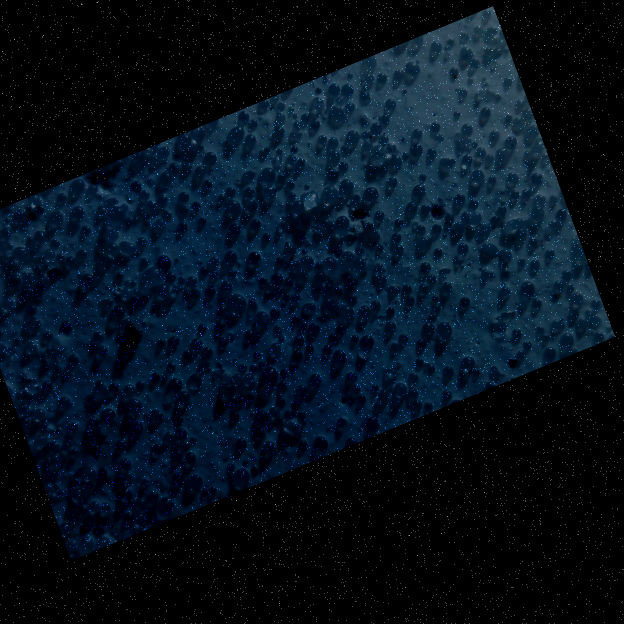GrassBeadSeg: (102, 382, 397, 545), (73, 177, 396, 292), (142, 381, 406, 485), (412, 182, 565, 346), (70, 381, 268, 499), (240, 332, 374, 483), (126, 242, 255, 398), (26, 272, 357, 330), (319, 320, 452, 450), (260, 76, 415, 180), (18, 261, 116, 422), (200, 125, 298, 273), (84, 468, 249, 549), (108, 205, 309, 269), (201, 142, 298, 274), (351, 153, 472, 258), (144, 408, 267, 504), (58, 395, 142, 531), (177, 185, 292, 282), (156, 139, 240, 266), (193, 365, 278, 488), (248, 370, 358, 465), (412, 223, 500, 332), (388, 283, 495, 370), (405, 60, 480, 182), (340, 166, 485, 229), (97, 286, 131, 543), (32, 265, 162, 330), (373, 45, 471, 131), (176, 220, 372, 263), (329, 105, 418, 198), (195, 126, 294, 208), (83, 383, 135, 524), (441, 76, 487, 235), (395, 23, 482, 107), (13, 284, 131, 344), (234, 308, 291, 427), (29, 256, 150, 311), (247, 362, 429, 398), (309, 320, 389, 397), (466, 279, 534, 369), (359, 207, 416, 314), (20, 351, 104, 423), (292, 111, 357, 198), (163, 198, 241, 268), (174, 216, 261, 278), (382, 120, 533, 155), (110, 147, 204, 202), (91, 422, 144, 519), (430, 122, 472, 244), (51, 200, 164, 245), (385, 320, 451, 397), (393, 67, 472, 131), (92, 449, 174, 510), (289, 112, 389, 161), (214, 415, 276, 493), (455, 24, 497, 139), (43, 231, 87, 337), (200, 314, 280, 372), (295, 83, 331, 210), (123, 384, 183, 460), (122, 447, 217, 493), (258, 236, 353, 282), (231, 214, 269, 324), (296, 121, 335, 227), (304, 300, 354, 382), (296, 77, 365, 136), (158, 144, 236, 196), (151, 125, 255, 163), (113, 305, 203, 348), (52, 204, 144, 246), (346, 42, 454, 77), (283, 132, 401, 163), (341, 209, 384, 294), (61, 479, 130, 530), (366, 54, 499, 80), (220, 241, 292, 289), (384, 241, 468, 282), (153, 162, 295, 186), (432, 296, 478, 370), (386, 47, 441, 108), (471, 178, 542, 221), (245, 104, 323, 143), (262, 150, 295, 239), (130, 145, 196, 189), (401, 109, 460, 157), (338, 363, 380, 430), (240, 109, 323, 141), (430, 120, 540, 144), (38, 382, 111, 418), (460, 31, 509, 84), (0, 284, 44, 343), (482, 178, 517, 250), (72, 179, 142, 215), (150, 283, 246, 309), (442, 353, 555, 375), (229, 123, 271, 182), (159, 404, 182, 509), (360, 72, 455, 97), (151, 132, 181, 211), (402, 44, 449, 93), (29, 335, 171, 351), (140, 190, 180, 246), (137, 426, 179, 479), (544, 298, 582, 356), (93, 265, 169, 294), (255, 348, 280, 436), (263, 306, 280, 435), (422, 135, 471, 179), (277, 152, 296, 264), (260, 304, 355, 326), (313, 96, 339, 176), (178, 214, 207, 283), (432, 128, 494, 160), (298, 253, 331, 312), (484, 14, 512, 83), (3, 207, 128, 222), (412, 113, 490, 137), (133, 375, 182, 413), (382, 283, 470, 304), (414, 109, 456, 153), (480, 170, 517, 219), (270, 379, 320, 415), (100, 455, 132, 511), (271, 270, 312, 313), (119, 456, 159, 500), (32, 352, 78, 390), (141, 188, 183, 229), (345, 100, 385, 143), (76, 203, 107, 258), (181, 151, 208, 214), (263, 189, 296, 240), (89, 183, 130, 224), (343, 249, 369, 313), (394, 328, 418, 396), (426, 336, 475, 369), (479, 105, 538, 132), (532, 170, 566, 216), (12, 225, 55, 261), (147, 143, 170, 209), (302, 227, 337, 270), (25, 318, 72, 350), (84, 467, 132, 498), (402, 39, 441, 77), (421, 153, 437, 245), (313, 125, 348, 167), (237, 412, 280, 446), (274, 185, 378, 199), (117, 283, 161, 316), (376, 242, 426, 271), (525, 295, 564, 332), (333, 142, 413, 160), (9, 246, 45, 286), (297, 328, 319, 393), (165, 472, 203, 509), (363, 79, 383, 147), (337, 94, 367, 138), (446, 36, 474, 83), (444, 47, 486, 78), (240, 417, 266, 466), (274, 124, 337, 144), (57, 223, 90, 261), (487, 111, 512, 161), (185, 446, 274, 460), (329, 160, 401, 177), (252, 340, 281, 381), (38, 432, 97, 452), (478, 7, 491, 96), (313, 430, 370, 450), (454, 51, 467, 138), (476, 87, 509, 121), (150, 408, 187, 438), (84, 443, 100, 512), (248, 303, 265, 366), (22, 408, 98, 422), (272, 270, 325, 290), (124, 315, 159, 345), (49, 209, 114, 225), (147, 470, 184, 498), (259, 224, 274, 292), (248, 250, 279, 282), (463, 198, 501, 224), (28, 242, 75, 263), (132, 241, 179, 262), (432, 233, 447, 298), (318, 132, 345, 168), (60, 319, 104, 341), (86, 271, 123, 297), (490, 248, 510, 295), (15, 210, 46, 240), (213, 332, 234, 376), (107, 397, 143, 422), (328, 128, 358, 158), (420, 260, 448, 291), (43, 360, 75, 387), (151, 442, 194, 462), (275, 109, 294, 154), (211, 304, 228, 354), (76, 499, 93, 549), (156, 426, 186, 454), (92, 330, 106, 390), (164, 147, 188, 182), (338, 177, 374, 200), (516, 97, 530, 156), (2, 224, 12, 306), (104, 437, 126, 474), (509, 290, 583, 301), (243, 371, 254, 445), (33, 394, 70, 416), (200, 192, 226, 223), (27, 302, 49, 338), (176, 388, 225, 404), (224, 184, 240, 233), (196, 142, 270, 152), (43, 420, 78, 441), (287, 90, 322, 111), (22, 381, 39, 424), (320, 296, 350, 320), (187, 262, 219, 284), (277, 156, 306, 180), (260, 255, 284, 284), (87, 514, 133, 529), (28, 270, 85, 282), (0, 208, 26, 234), (264, 424, 291, 449), (247, 164, 303, 176), (142, 196, 165, 225), (314, 75, 353, 92), (348, 231, 381, 251), (382, 174, 397, 218), (349, 110, 382, 130), (424, 360, 479, 372), (464, 69, 472, 151), (362, 71, 386, 98), (21, 386, 49, 409), (342, 128, 370, 151), (193, 381, 235, 396), (441, 280, 466, 305), (524, 205, 544, 236), (205, 285, 227, 313), (395, 182, 417, 210), (328, 199, 350, 227), (123, 278, 137, 322), (33, 190, 94, 200), (34, 229, 55, 258), (328, 256, 366, 272), (304, 186, 359, 197), (248, 117, 258, 177), (43, 247, 88, 260), (199, 268, 219, 297), (98, 304, 110, 352), (324, 255, 348, 279), (212, 364, 260, 376), (77, 455, 107, 474), (515, 123, 543, 143), (245, 140, 255, 196), (173, 372, 202, 391), (242, 98, 268, 119), (458, 64, 476, 94), (491, 323, 503, 368), (514, 122, 538, 144), (332, 347, 365, 363), (194, 150, 216, 174), (360, 80, 407, 91), (405, 154, 426, 178), (203, 177, 223, 202), (157, 338, 228, 345), (116, 263, 147, 279), (510, 226, 526, 257), (373, 219, 418, 230), (104, 487, 123, 513), (461, 38, 479, 65), (302, 182, 309, 251), (26, 211, 41, 243), (333, 263, 348, 295), (132, 414, 162, 430), (111, 235, 139, 252), (544, 200, 560, 229), (255, 184, 275, 207), (455, 191, 472, 218), (449, 65, 464, 95), (453, 220, 468, 250), (165, 269, 197, 283), (500, 221, 512, 258), (124, 470, 133, 519), (177, 207, 198, 228), (312, 103, 331, 126), (105, 278, 121, 305), (98, 241, 110, 276), (159, 160, 180, 180), (379, 387, 417, 398), (282, 247, 290, 299), (278, 171, 293, 198), (484, 128, 499, 155), (225, 249, 256, 262), (228, 221, 238, 261), (346, 81, 353, 138), (278, 108, 310, 120), (322, 183, 349, 197), (87, 466, 96, 508), (137, 476, 150, 505), (193, 185, 209, 208), (420, 320, 443, 336), (94, 379, 120, 393), (36, 199, 63, 212), (181, 162, 206, 176), (261, 105, 285, 119), (305, 371, 321, 392), (168, 160, 192, 173), (427, 138, 444, 156), (555, 330, 574, 346), (176, 189, 189, 212), (442, 372, 453, 399), (34, 192, 66, 201), (66, 508, 79, 530), (201, 345, 212, 371), (172, 333, 194, 346), (76, 204, 98, 217), (125, 215, 148, 227), (190, 287, 215, 298), (504, 134, 516, 156), (421, 130, 444, 141), (494, 136, 506, 157), (7, 273, 14, 308), (249, 297, 284, 304), (535, 192, 546, 214), (481, 31, 492, 53), (209, 254, 219, 277), (63, 429, 75, 448), (159, 193, 168, 218), (341, 142, 369, 150), (471, 145, 485, 161), (158, 209, 171, 226), (56, 446, 80, 455), (50, 448, 68, 460), (5, 220, 13, 247), (557, 206, 567, 227), (492, 33, 502, 54), (56, 251, 72, 264), (262, 144, 282, 154), (137, 212, 151, 226), (462, 209, 471, 229), (183, 127, 194, 143), (513, 105, 522, 124), (14, 271, 27, 284), (51, 439, 59, 460), (246, 193, 257, 208), (293, 115, 302, 133), (125, 509, 141, 519), (277, 100, 285, 120), (333, 81, 345, 94), (76, 503, 87, 517), (464, 139, 478, 150), (466, 66, 475, 82), (220, 279, 232, 291), (325, 95, 342, 103), (293, 118, 307, 126), (114, 200, 128, 208), (376, 272, 386, 283), (378, 133, 389, 143), (328, 134, 338, 145), (183, 348, 192, 358), (151, 370, 160, 380), (164, 430, 173, 440), (385, 305, 394, 314), (402, 283, 411, 292), (392, 231, 401, 240), (347, 293, 356, 302), (323, 342, 332, 351), (291, 313, 300, 322), (399, 332, 408, 341), (427, 272, 436, 281), (433, 246, 442, 255), (421, 202, 430, 211), (394, 216, 403, 225), (416, 223, 425, 232), (432, 222, 441, 231), (497, 204, 506, 213), (521, 186, 530, 195), (481, 267, 490, 276), (500, 267, 509, 276), (548, 192, 557, 201), (562, 269, 571, 278), (554, 278, 563, 287), (540, 331, 549, 340), (522, 338, 531, 347), (590, 298, 599, 307), (578, 315, 587, 324), (594, 329, 603, 338), (516, 348, 525, 357), (511, 326, 520, 335), (431, 302, 440, 311), (414, 356, 423, 365), (427, 363, 436, 372), (416, 337, 425, 346), (370, 382, 379, 391), (357, 392, 366, 401), (408, 371, 417, 380), (413, 398, 422, 407), (373, 400, 382, 409), (337, 415, 346, 424), (336, 323, 345, 332), (328, 331, 337, 340), (272, 323, 281, 332), (298, 319, 307, 328), (252, 349, 261, 358), (230, 409, 239, 418), (232, 396, 241, 405), (285, 408, 294, 417), (297, 408, 306, 417), (222, 371, 231, 380), (278, 379, 287, 388), (291, 398, 300, 407), (276, 395, 285, 404), (245, 328, 254, 337), (284, 275, 293, 284), (227, 267, 236, 276), (215, 319, 224, 328), (298, 268, 307, 277), (166, 361, 175, 370), (136, 379, 145, 388), (181, 440, 190, 449), (226, 460, 235, 469), (250, 464, 259, 473), (372, 298, 380, 308), (351, 332, 359, 342), (294, 348, 302, 358), (391, 340, 399, 350), (488, 173, 496, 183), (545, 246, 553, 256), (529, 235, 537, 245), (533, 296, 541, 306), (239, 361, 247, 371), (220, 334, 228, 344), (292, 290, 300, 300), (189, 433, 197, 443), (406, 294, 414, 303), (375, 262, 383, 271), (356, 244, 364, 253), (395, 243, 403, 252), (305, 342, 313, 351), (295, 334, 303, 343), (420, 282, 428, 291), (445, 211, 453, 220), (469, 197, 477, 206), (511, 188, 519, 197), (531, 258, 539, 267), (517, 256, 525, 265), (566, 281, 574, 290), (536, 323, 544, 332), (585, 306, 593, 315), (352, 382, 360, 391), (424, 399, 432, 408), (279, 367, 287, 376), (249, 363, 257, 372), (299, 438, 307, 447), (234, 372, 242, 381), (198, 322, 206, 331), (175, 414, 183, 423), (314, 259, 322, 267), (334, 245, 342, 253), (301, 247, 307, 253)
